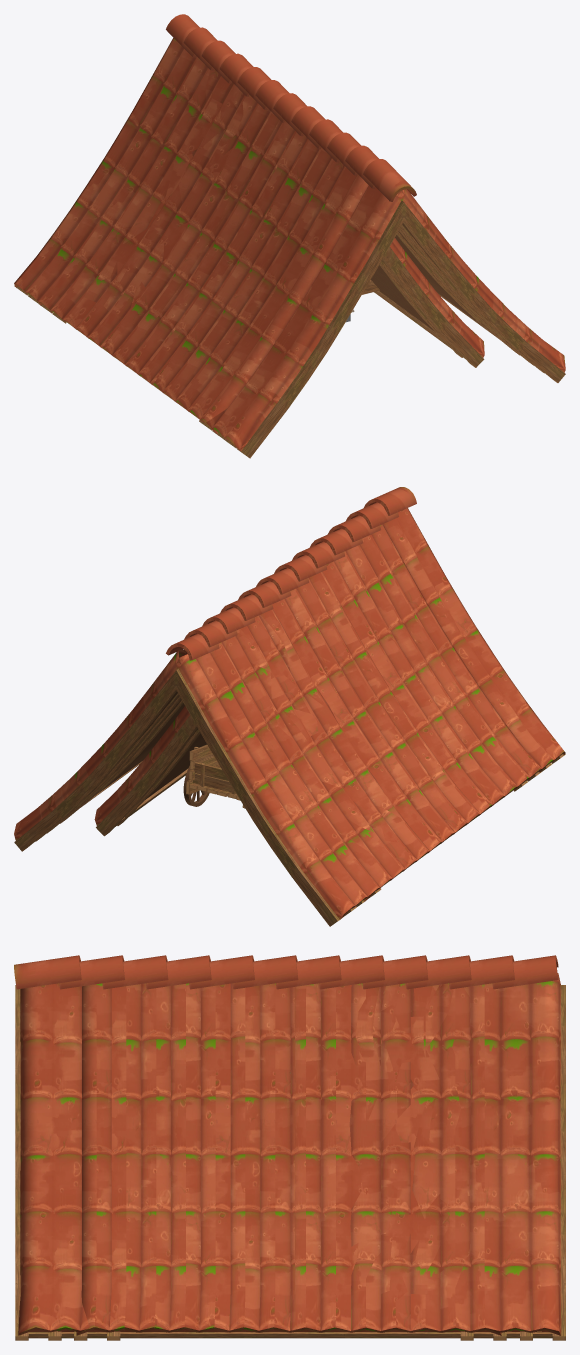
The model's file is village.glb.
3 views of the same model, one above another, from view 1: azimuth 30°, elevation 25°; view 2: azimuth 150°, elevation 25°; view 3: azimuth 270°, elevation 25° (orthographic). The views are drawn at different scales.
Parts seen in each view (by area): view 1: Roof_RoundTiles_6x8, Roof_RoundTiles_6x6, Roof_RoundTiles_4x6; view 2: Roof_RoundTiles_6x8, Roof_RoundTiles_6x6, Roof_RoundTiles_4x6, Prop_Wagon; view 3: Roof_RoundTiles_6x8, Roof_RoundTiles_6x6.
Part boxes in pixels (x1,y1,x2,y2): Roof_RoundTiles_6x8: (14,14,565,458); Roof_RoundTiles_6x6: (39,27,533,438); Roof_RoundTiles_4x6: (371,238,484,367); Roof_RoundTiles_6x8: (14,487,565,926); Roof_RoundTiles_6x6: (47,506,541,906); Roof_RoundTiles_4x6: (94,706,206,836); Prop_Wagon: (183,744,245,808); Roof_RoundTiles_6x8: (14,955,565,1340); Roof_RoundTiles_6x6: (74,955,514,1340).
Bounding box in the file's own units: 8.25 × 5.67 × 9.68.
7 materials, 6 textured.
